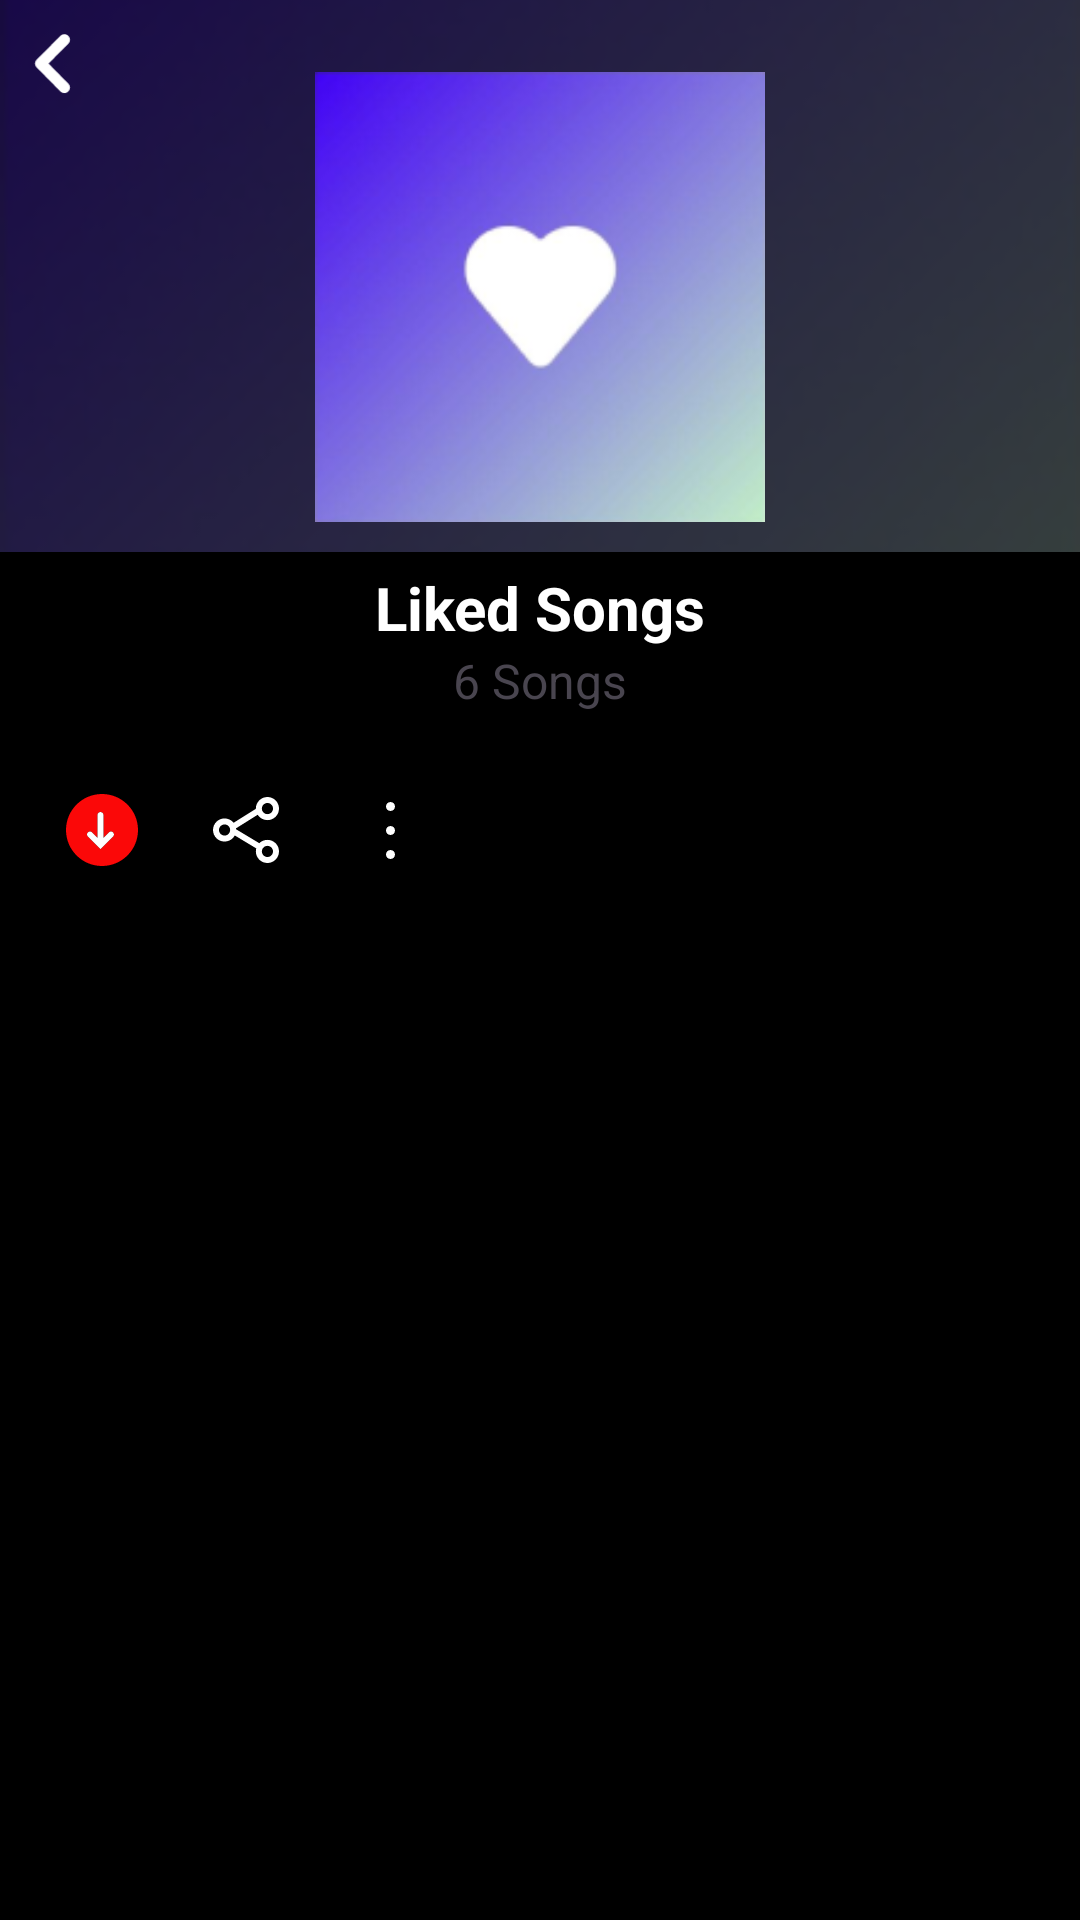

Named icons in this screenshot (1080 × 1920) and their bounding boxes, (x1, y1, x2, y2):
downloaded: (66, 794, 138, 866)
left arrow: (34, 34, 71, 93)
share: (213, 797, 279, 863)
